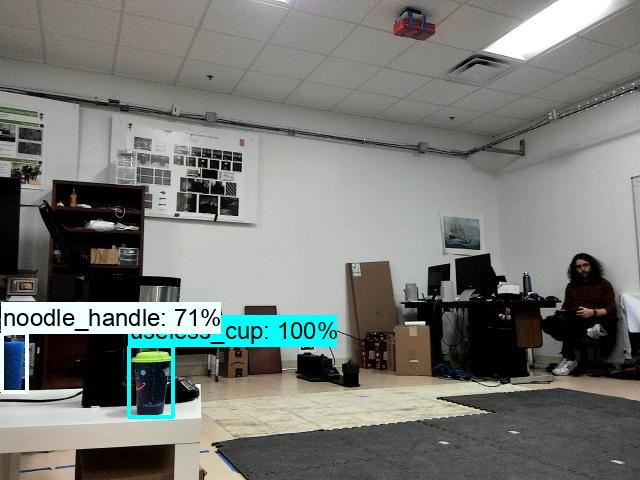noodle_handle: (3, 331, 25, 392)
useless_cup: (126, 347, 174, 414)
